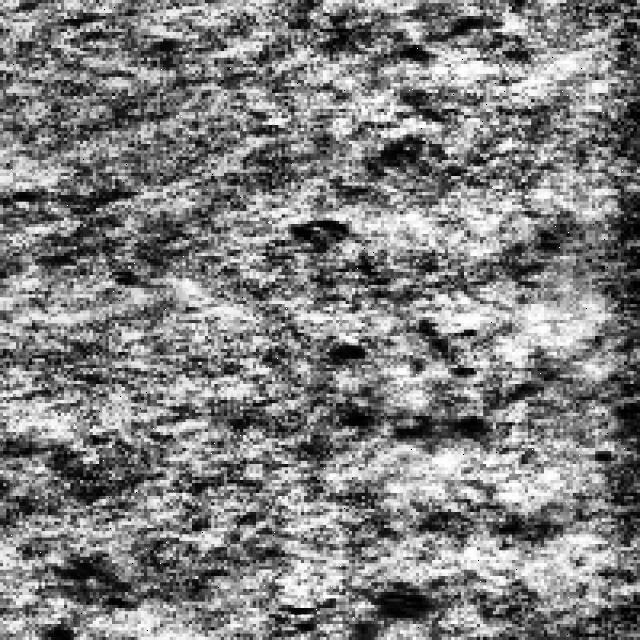Crazing: (285, 211, 477, 432)
